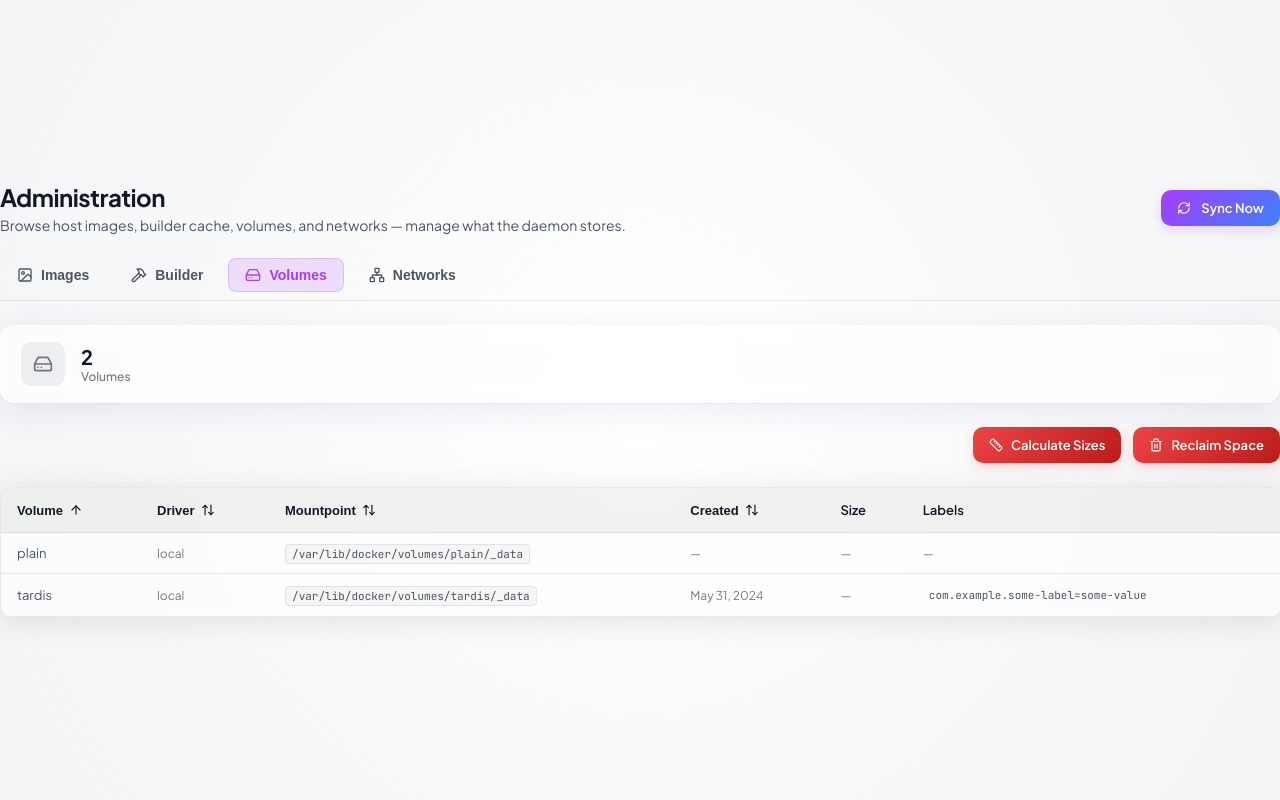
Administration Component › confirms the volume prune with measured upper bounds and re-measures
Expected: the text "tardis" is shown, left=17, top=587, right=52, bottom=603
Step 1. Click the button "Calculate Sizes" → (1047, 445), box left=973, top=427, right=1122, bottom=463
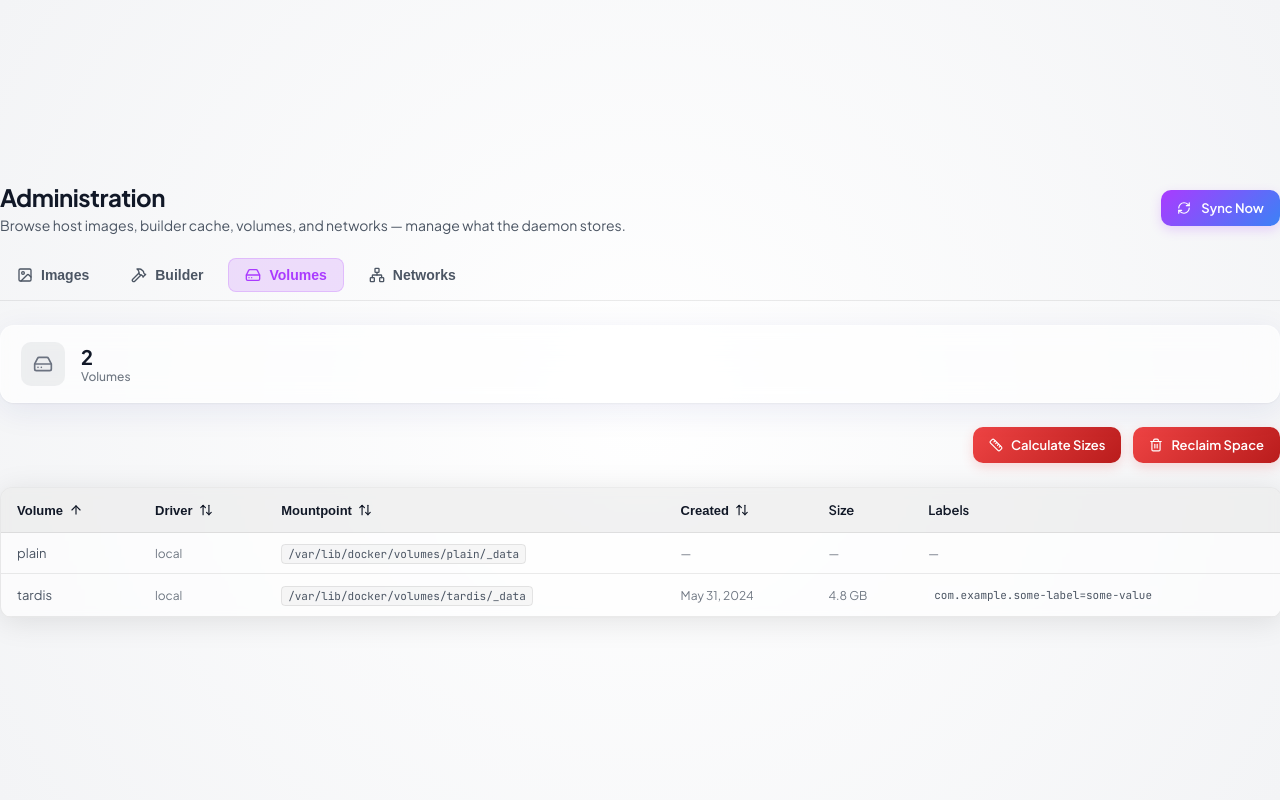
Step 2. Click the button "Reclaim Space" → (1207, 445), box left=1133, top=427, right=1279, bottom=463
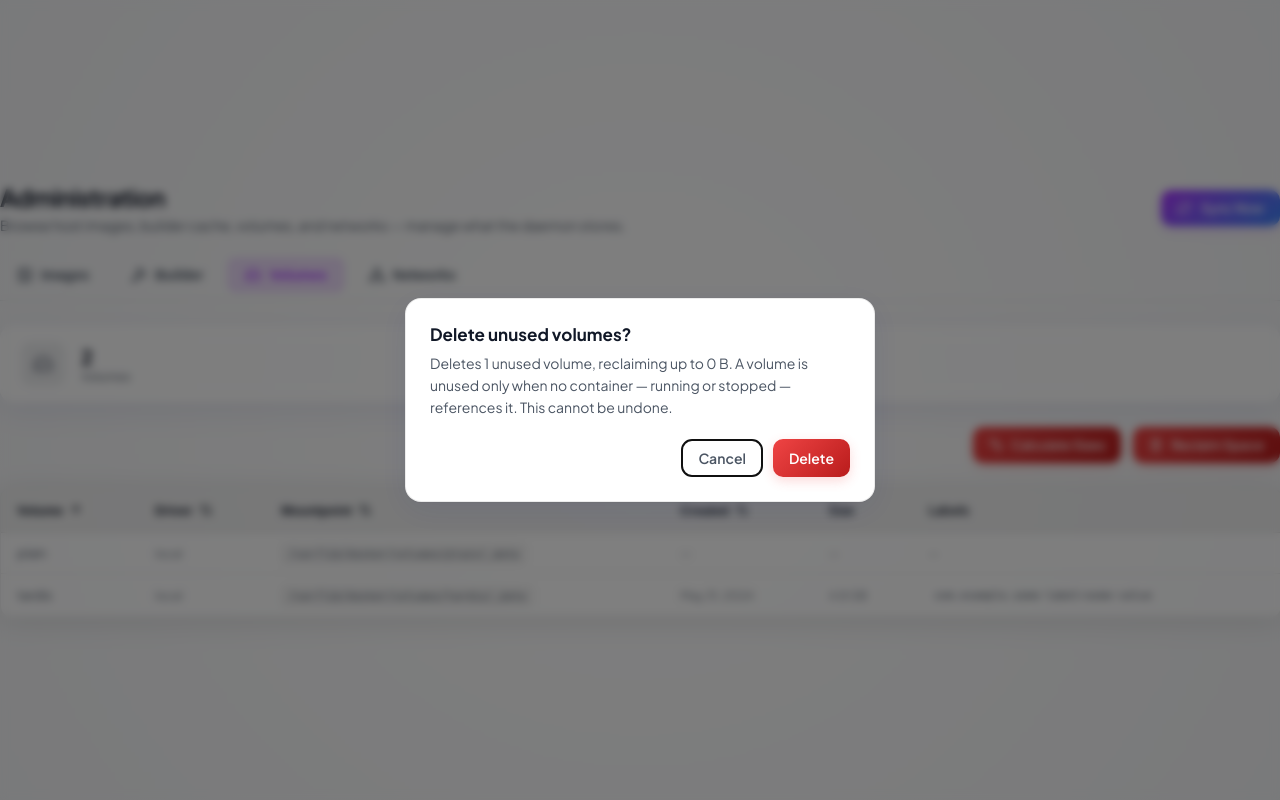
Step 3. Click the button "Delete" → (811, 458), box left=773, top=438, right=850, bottom=476
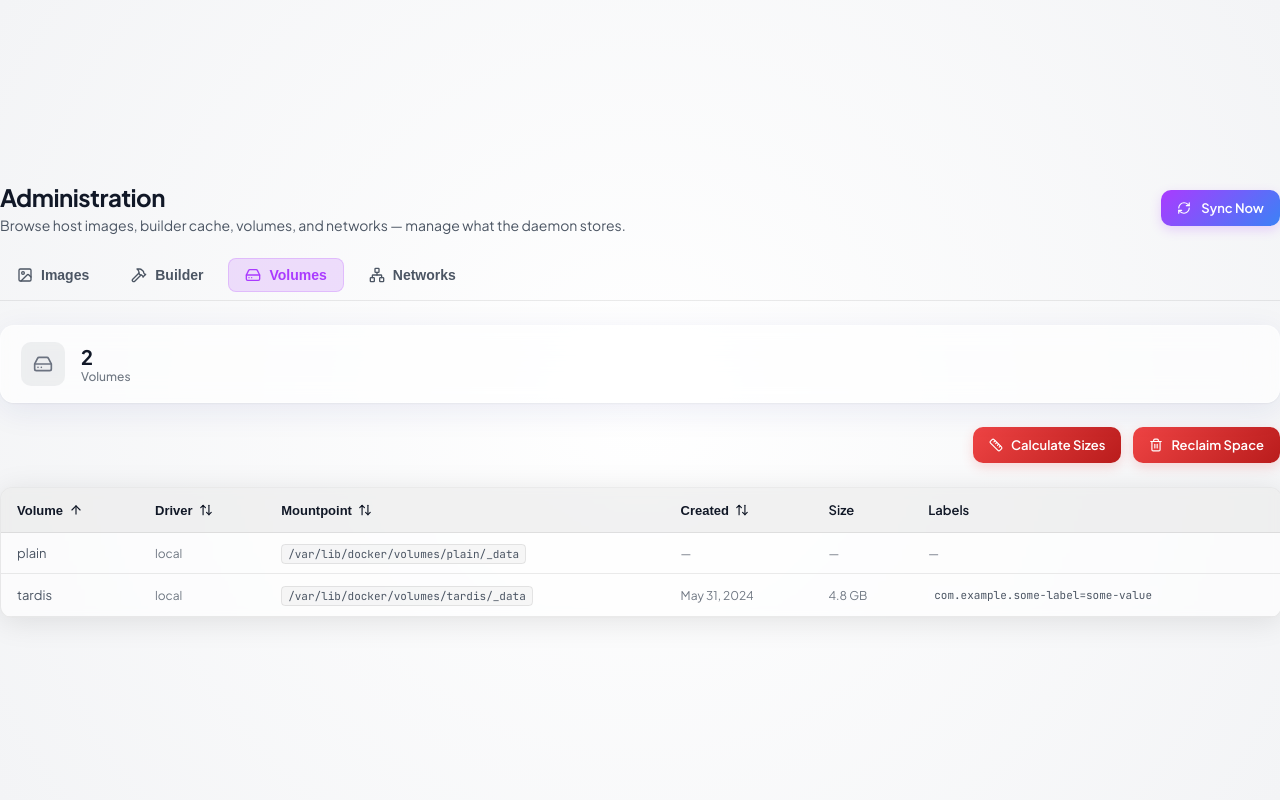
Expected: the dialog is gone
